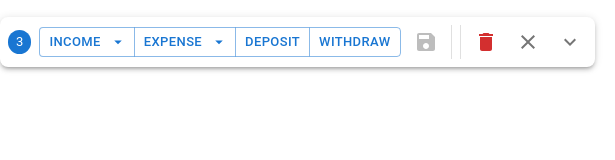
Test: CompactActionBar › Type selection › save button is enabled when deposit is selected
Click the button with test id "deposit-button" at (273, 42), box [235,27,310,57]
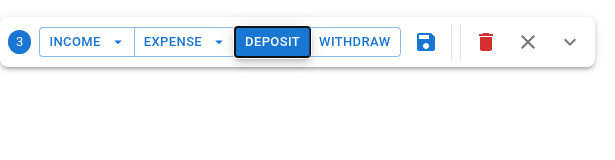
expect the button with test id "save-button" is enabled: met, box [409,25,443,59]
